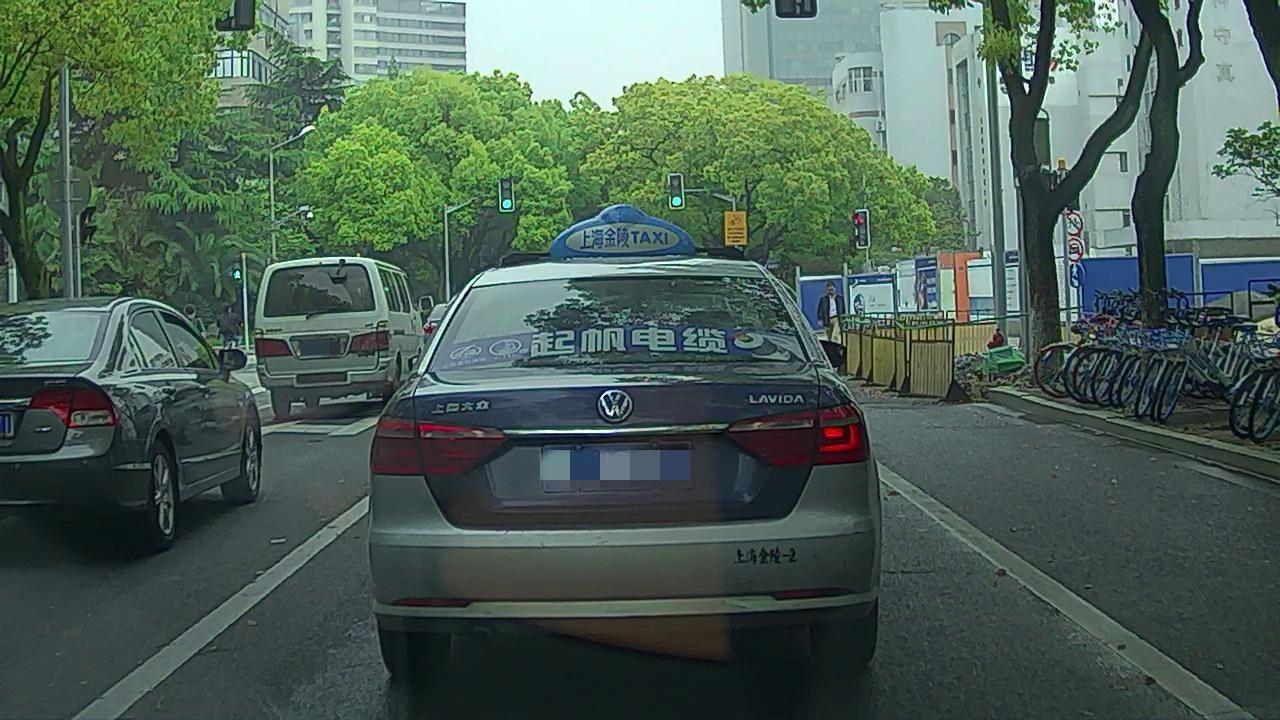traffic_light: (669, 176, 684, 209), (500, 179, 512, 210)
